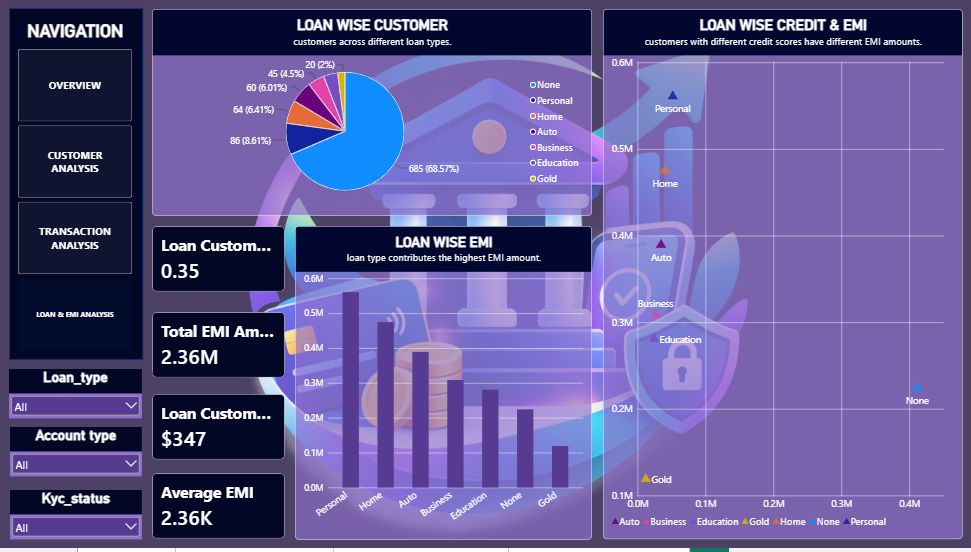

The dashboard page shown, as its layout file describes it:
{"tool":"powerbi","page":{"name":"LOAN & EMI ANALYSIS","canvas":[1920,1080],"ordinal":3},"visuals":[{"type":"shape","box":[19.4,19.4,263.5,691.2],"z":0,"group":"g1"},{"type":"group","id":"g1","title":"Group 1","box":[19.4,19.4,263.5,691.2],"z":0},{"type":"cardVisual","fields":{"Data":["Sheet1.Loan Customers"]},"box":[300.2,777.6,261.4,129.6],"z":1000},{"type":"cardVisual","fields":{"Data":["Sheet1.Loan Customer %"]},"box":[300.2,447.1,261.4,129.6],"z":2000},{"type":"cardVisual","fields":{"Data":["Sheet1.Total EMI Amount"]},"box":[300.2,615.6,261.4,129.6],"z":3000},{"type":"cardVisual","fields":{"Data":["Sheet1.Average EMI"]},"box":[300.2,933.1,261.4,129.6],"z":4000},{"type":"columnChart","title":"LOAN WISE EMI","fields":{"Category":["Sheet1.loan_type"],"Y":["Sheet1.Total EMI Amount"]},"box":[581,447.1,583.2,615.6],"z":5000},{"type":"pieChart","title":"LOAN WISE CUSTOMER","fields":{"Category":["Sheet1.loan_type"],"Y":["CountNonNull(Sheet1.customer_id)"]},"box":[300.2,21.6,864,406.1],"z":6000},{"type":"scatterChart","title":"LOAN WISE CREDIT & EMI","fields":{"Series":["Sheet1.loan_type"],"X":["Sum(Sheet1.credit_score)"],"Y":["Sum(Sheet1.emi_amount)"]},"box":[1185.8,21.6,706.3,1041.1],"z":7000},{"type":"slicer","title":"Account type","fields":{"Values":["Sheet1.account_type"]},"box":[21.6,842.4,259.2,97.2],"z":8000},{"type":"slicer","title":"Kyc_status","fields":{"Values":["Sheet1.kyc_status"]},"box":[21.6,965.5,259.2,97.2],"z":9000},{"type":"slicer","title":"Loan_type","fields":{"Values":["Sheet1.loan_type"]},"box":[19.4,727.9,261.4,97.2],"z":10000},{"type":"pageNavigator","title":"NAVIGATION","box":[37.8,44.6,224.7,648.5],"z":15500,"group":"g1"}]}

Visuals, with their boxes in screenshot pixels (x1, y1, x2, y2), scaled from the page's 1920x1080 canvas onto the 971x552 screenshot:
shape: [x1=10, y1=10, x2=143, y2=363]
"Group 1" group: [x1=10, y1=10, x2=143, y2=363]
cardVisual - Sheet1.Loan Customers: [x1=152, y1=397, x2=284, y2=464]
cardVisual - Sheet1.Loan Customer %: [x1=152, y1=229, x2=284, y2=295]
cardVisual - Sheet1.Total EMI Amount: [x1=152, y1=315, x2=284, y2=381]
cardVisual - Sheet1.Average EMI: [x1=152, y1=477, x2=284, y2=543]
"LOAN WISE EMI" columnChart: [x1=294, y1=229, x2=589, y2=543]
"LOAN WISE CUSTOMER" pieChart: [x1=152, y1=11, x2=589, y2=219]
"LOAN WISE CREDIT & EMI" scatterChart: [x1=600, y1=11, x2=957, y2=543]
"Account type" slicer: [x1=11, y1=431, x2=142, y2=480]
"Kyc_status" slicer: [x1=11, y1=493, x2=142, y2=543]
"Loan_type" slicer: [x1=10, y1=372, x2=142, y2=422]
"NAVIGATION" pageNavigator: [x1=19, y1=23, x2=133, y2=354]
